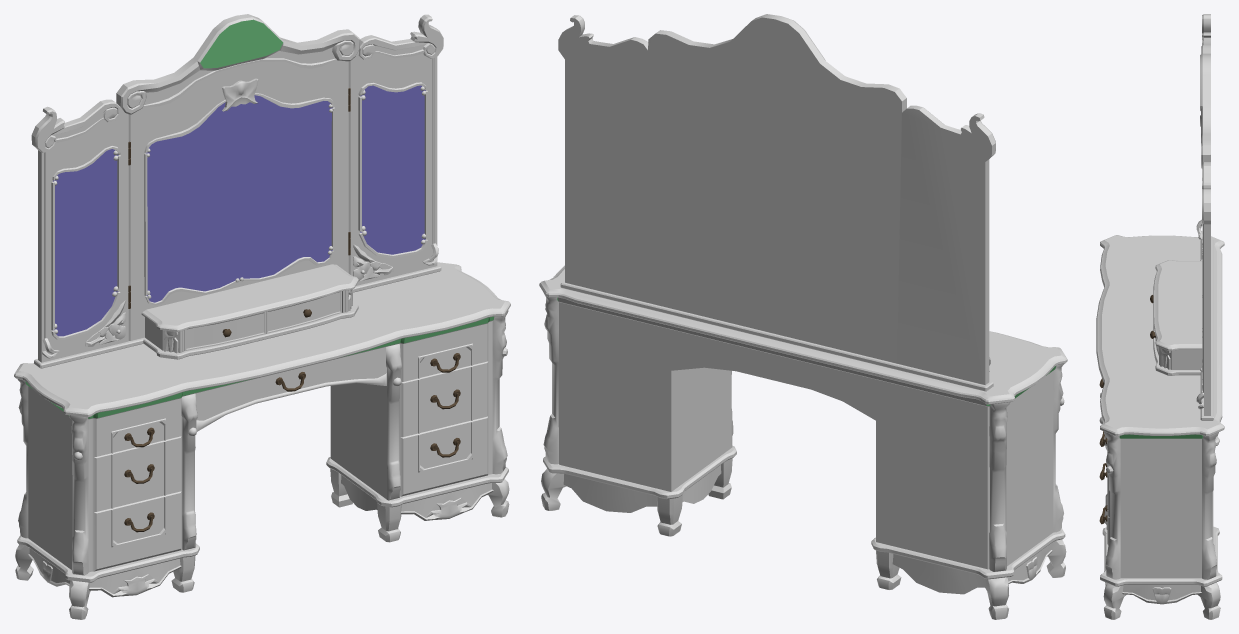
Rendered from DYJDY8804.FBX.
3 views of the same model, side by side, from view 1: azimuth 30°, elevation 25°; view 2: azimuth 150°, elevation 25°; view 3: azimuth 270°, elevation 25° (orthographic). The views are drawn at different scales.
Parts seen in each view (by area): view 1: DYJDY8804; view 2: DYJDY8804; view 3: DYJDY8804.
Boxes of the visible parts, box(x1,y1,x2,y2) form: DYJDY8804: box(14, 14, 510, 619); DYJDY8804: box(539, 14, 1067, 619); DYJDY8804: box(1096, 14, 1224, 619).
Size of the model in its own units: 176 by 48 by 193.
